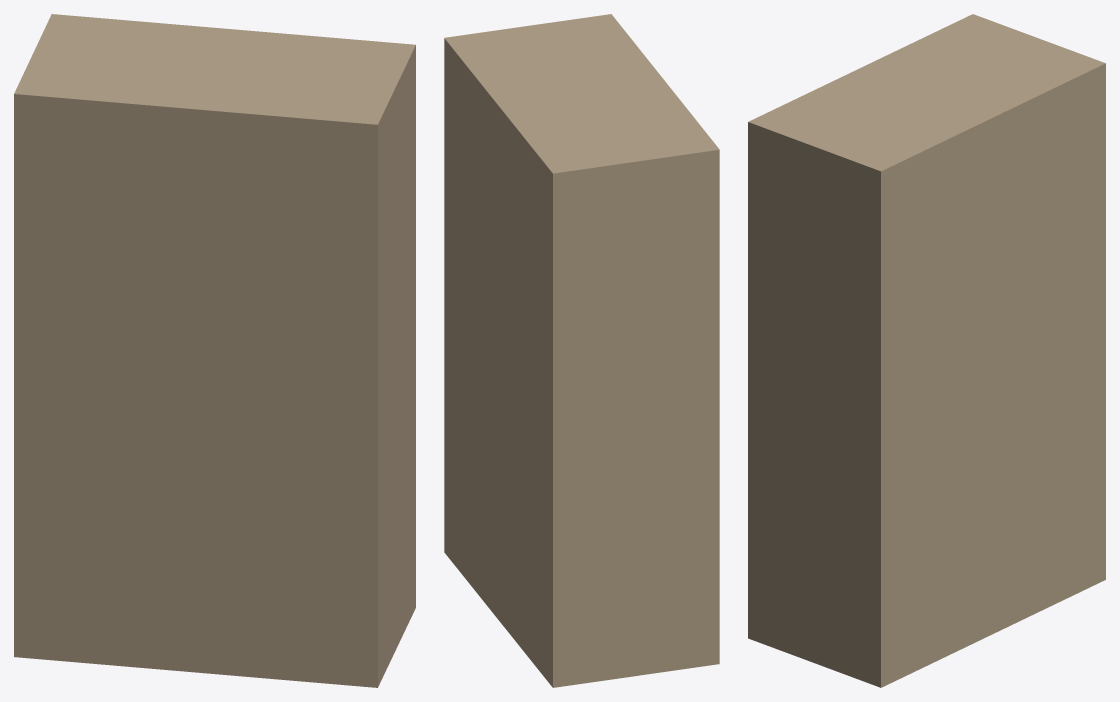
File: bld_101353706.dae
The picture shows the model from 3 angles, left to right: view 1: azimuth 30°, elevation 25°; view 2: azimuth 150°, elevation 25°; view 3: azimuth 270°, elevation 25°; orthographic projection. The views are drawn at different scales.
Visible parts, largest first — view 1: bld_101353706; view 2: bld_101353706; view 3: bld_101353706.
Part boxes in pixels (x1,y1,x2,y2): bld_101353706: (14, 14, 415, 687); bld_101353706: (444, 14, 719, 687); bld_101353706: (748, 14, 1105, 687).
Size of the model in its own units: 5.23 by 5.02 by 8.
